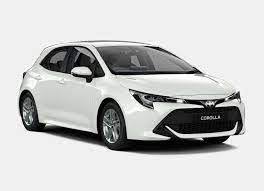Toyota: (18, 40, 244, 150)
